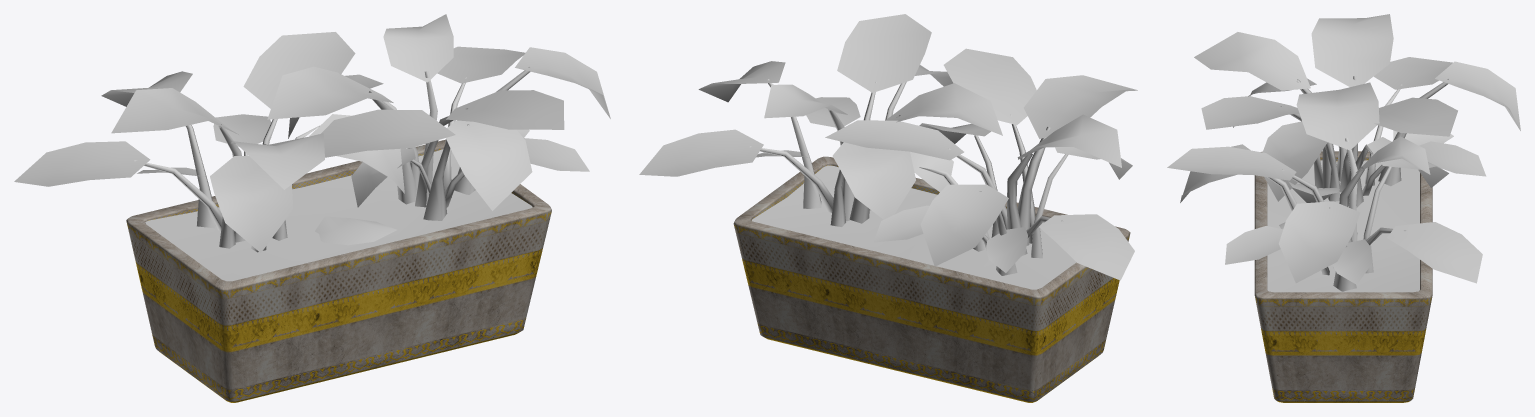
The model's file is SM_PlantE.FBX.
3 renders of one model, left to right at view 1: azimuth 30°, elevation 25°; view 2: azimuth 150°, elevation 25°; view 3: azimuth 270°, elevation 25°, orthographic. The views are drawn at different scales.
Visible parts, largest first — view 1: SM_PlantE_LOD0; view 2: SM_PlantE_LOD0; view 3: SM_PlantE_LOD0.
Part boxes in pixels (bbox=[...]): SM_PlantE_LOD0: bbox=[14, 14, 610, 402]; SM_PlantE_LOD0: bbox=[639, 14, 1137, 402]; SM_PlantE_LOD0: bbox=[1167, 14, 1520, 402].
Size of what is drawn, in the model's own units: 95.52 by 48.58 by 62.93.
